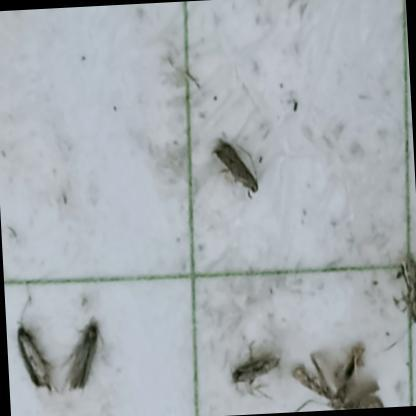prays_oleae: (284, 328, 384, 412), (62, 294, 127, 408), (194, 114, 268, 214), (226, 326, 288, 415), (5, 305, 57, 407), (390, 238, 416, 346)
